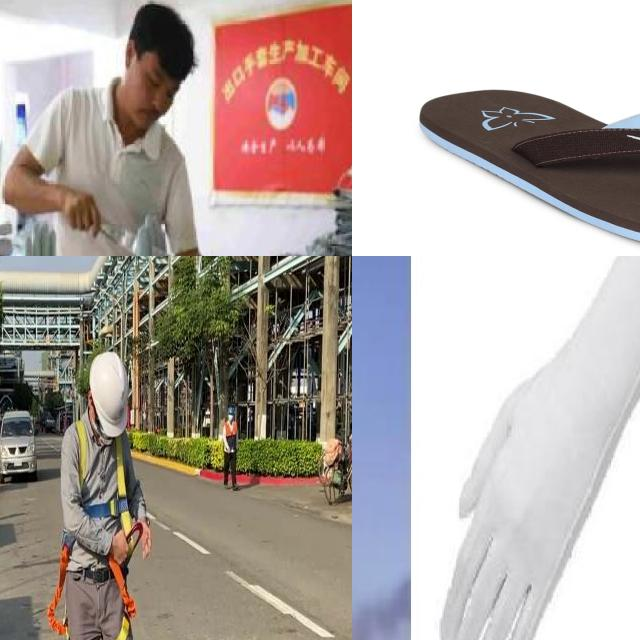Harness: (76, 420, 133, 534), (107, 555, 137, 640), (47, 542, 71, 640)
Sandals: (416, 87, 640, 256)
face_nomask: (132, 63, 173, 129)
hand_glove: (436, 370, 596, 640)
hand_noglove: (62, 188, 101, 236)
head_nohelmet: (141, 0, 201, 77)
person: (1, 0, 241, 256)
